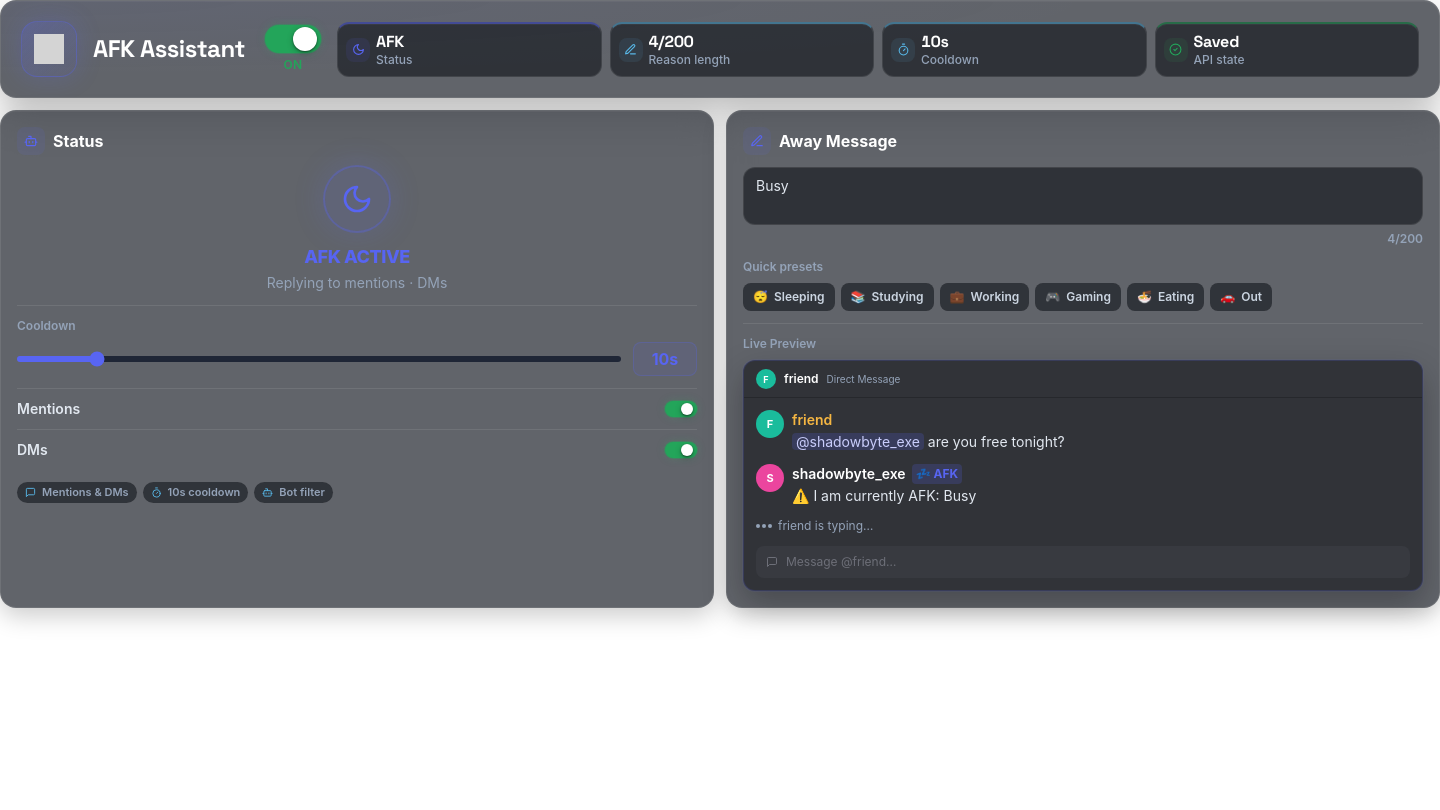
Test: AFKFeature cooldown and filter autosave › autosaves the mentions and DMs filter flags
Expected: the text box showing "Busy" is shown, [743, 167, 1423, 225]
What coordinates should you click on to do the following:
click the switch named "Mentions"
I would click on:
 (681, 409)
Its box is [665, 401, 697, 417].
Wait 600 ms
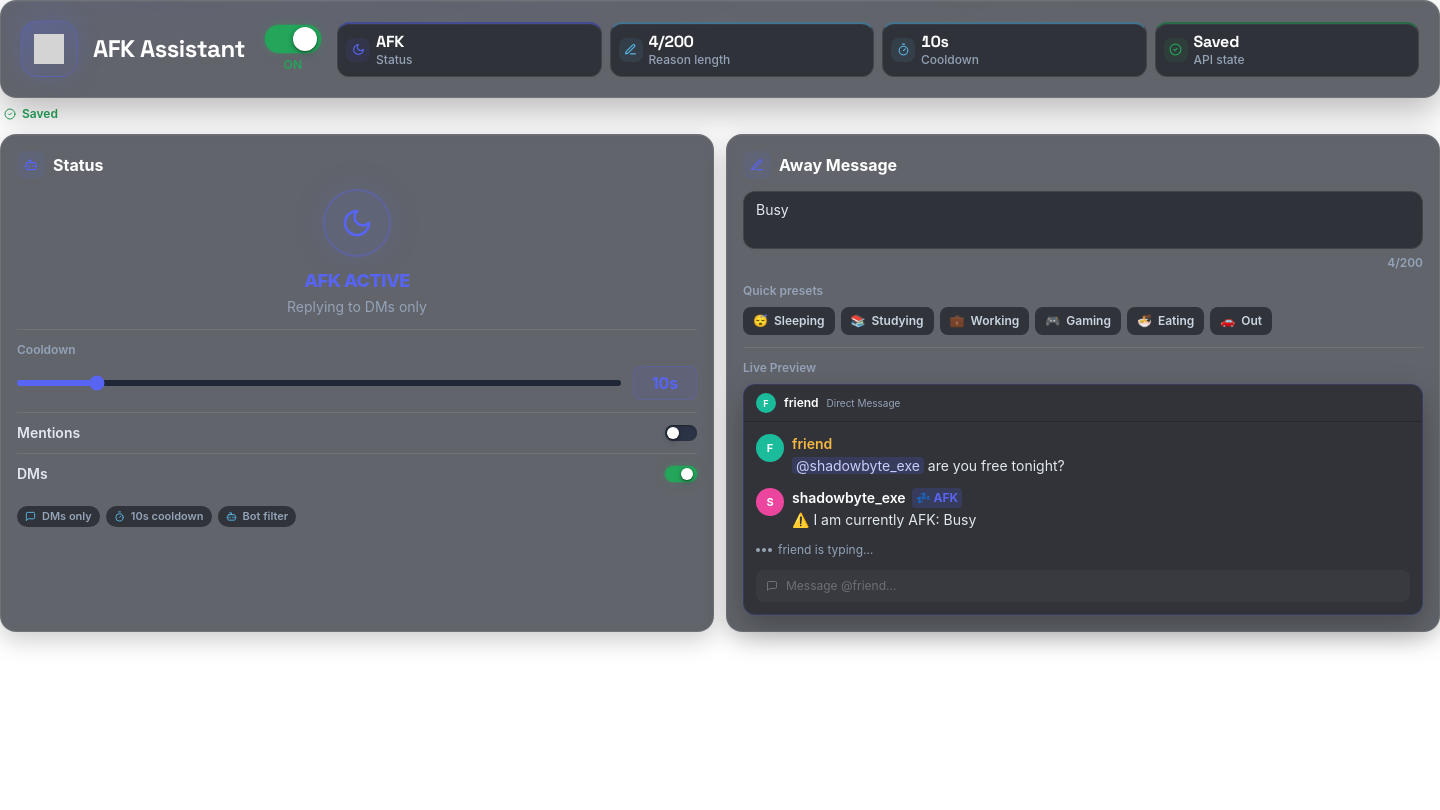
Expected: the text "Replying to DMs only" is shown, [287, 297, 427, 317]
What coordinates should you click on to do the following:
click the switch named "DMs"
I would click on:
 (681, 474)
Its box is [665, 466, 697, 482].
Wait 600 ms
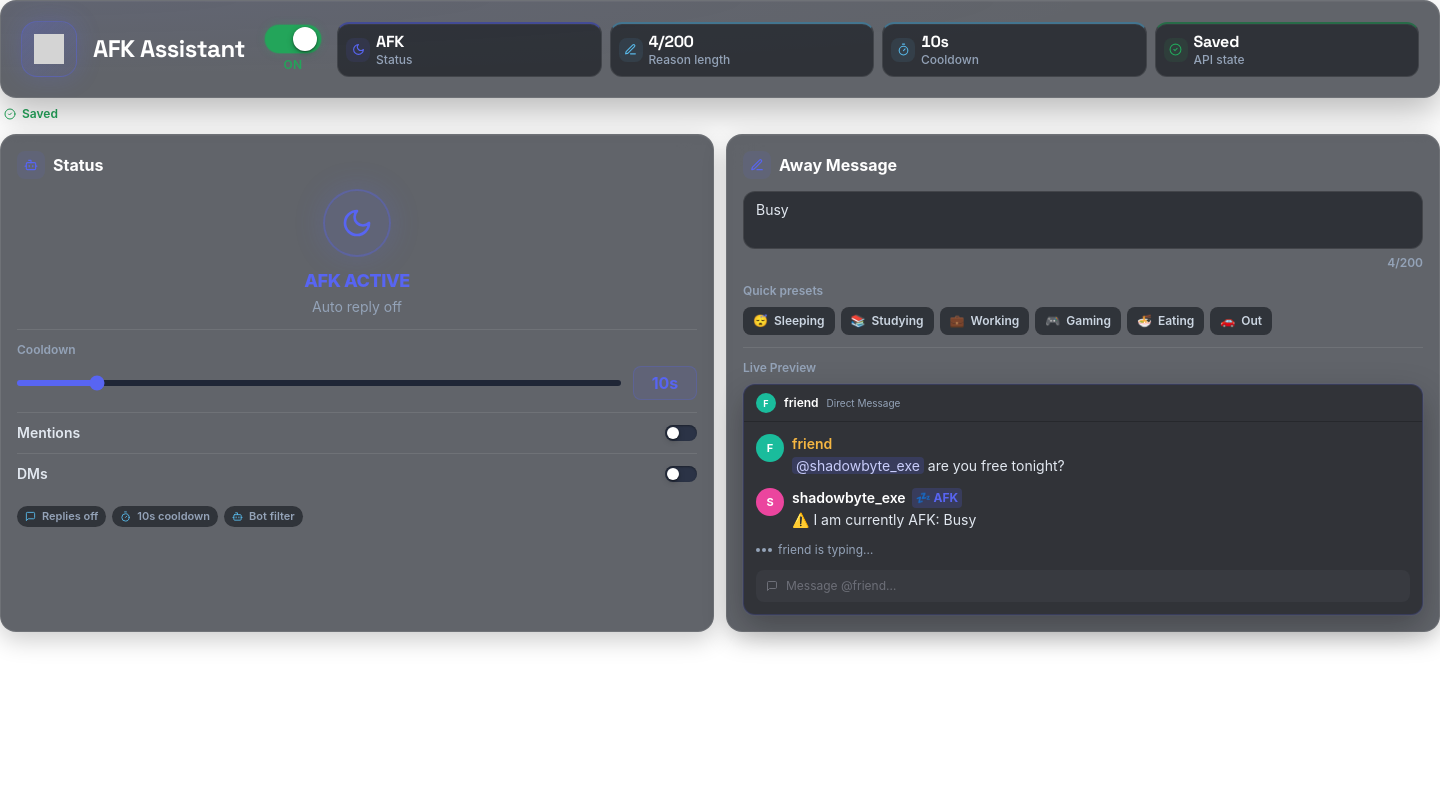
Expected: the text "Auto reply off" is shown, [304, 297, 410, 317]
